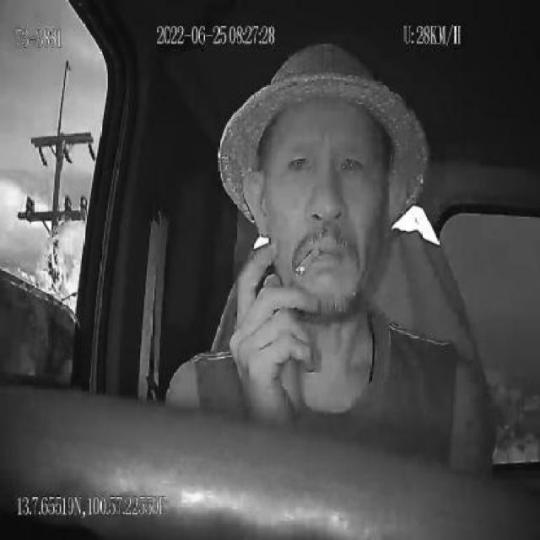smoking: (294, 243, 323, 280)
